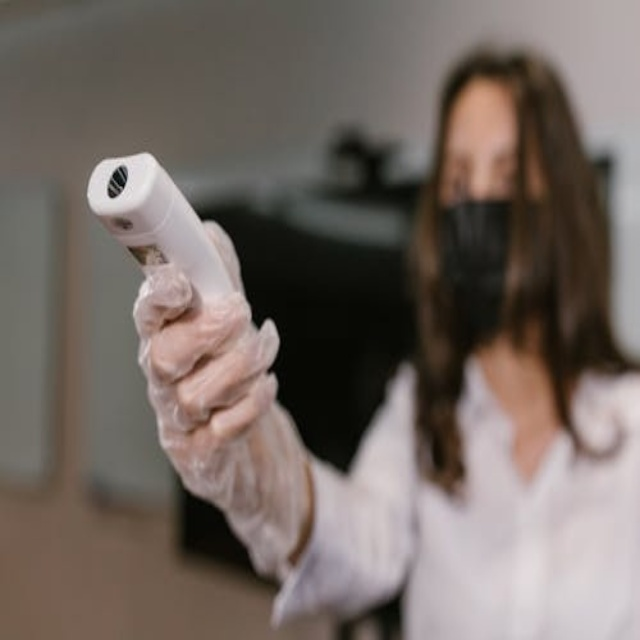Guantes: (133, 225, 314, 578)
Mascara: (436, 196, 514, 341)
Sin_gafas: (440, 150, 523, 202)
